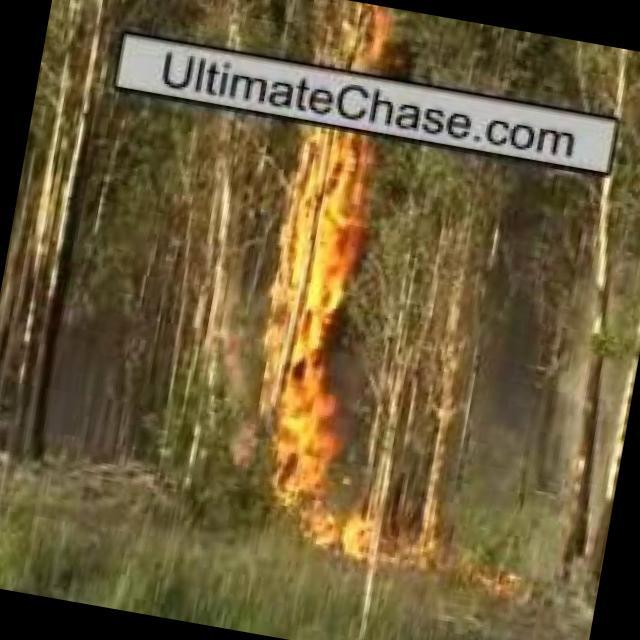Fire: (257, 136, 369, 402), (237, 401, 404, 562), (336, 1, 391, 68)
